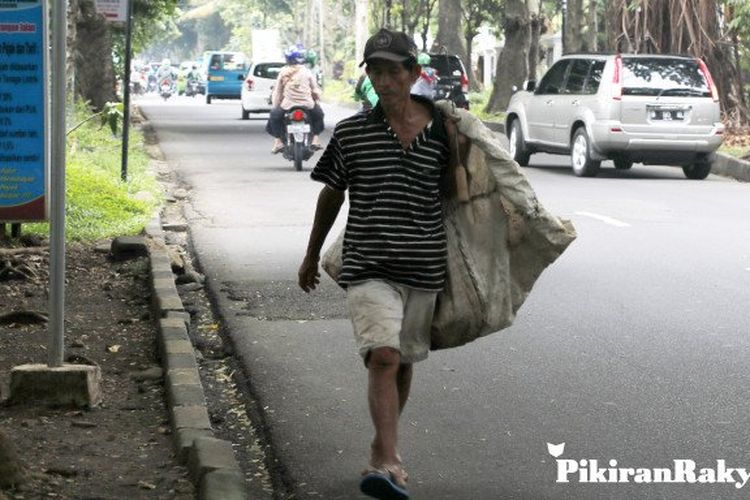pemulung: (292, 23, 580, 496)
